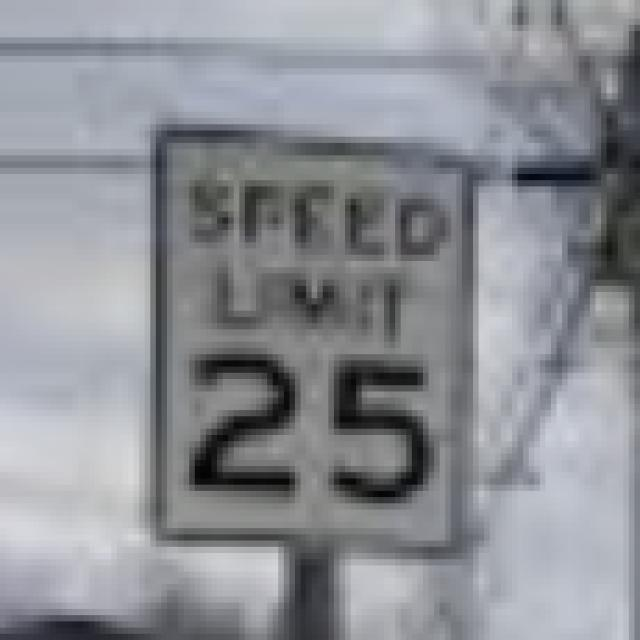speedLimit25: (153, 124, 467, 558)
